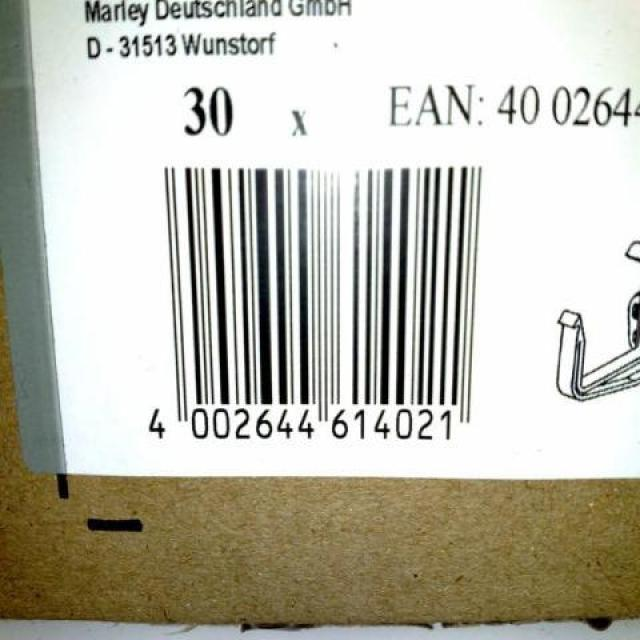Barcode: (127, 144, 509, 476)
